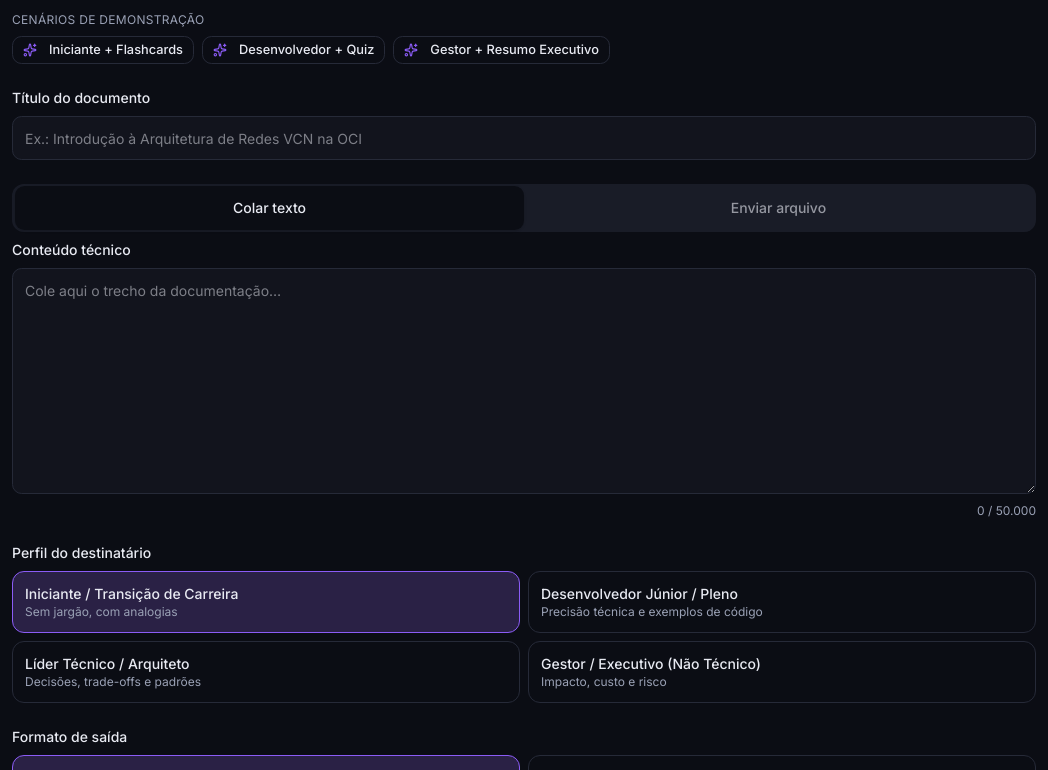
it: IngestionForm › preenche o formulário e dispara a geração ao clicar em um cenário
The image size is (1048, 770).
Click the button "Gestor + Resumo Executivo" at (502, 50), box [393, 36, 610, 64]
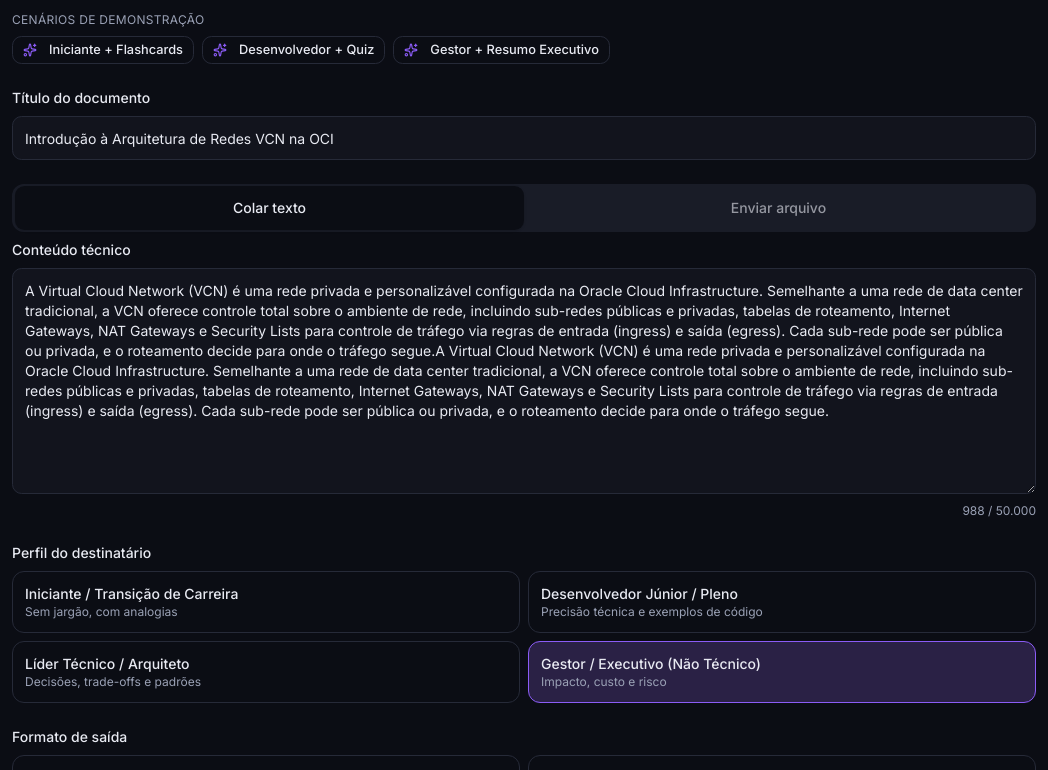
Result: the field labelled "Título do documento" holds "Introdução à Arquitetura de Redes VCN na OCI" at [12, 116, 1036, 160]
